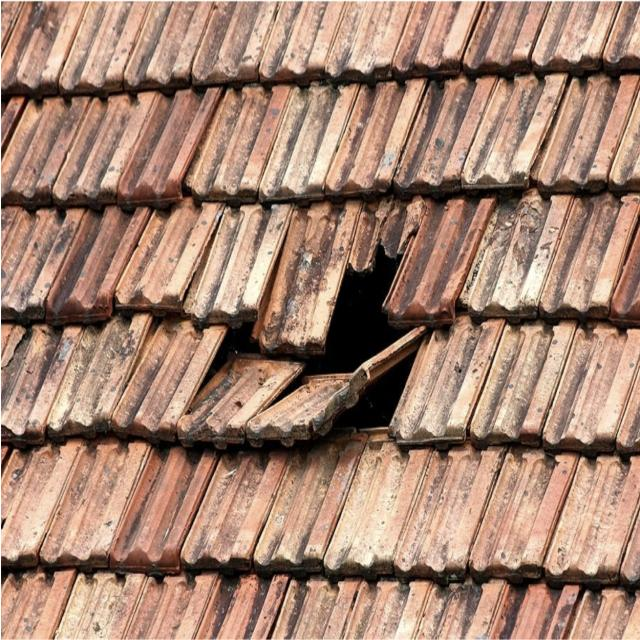damaged_roof: (176, 222, 437, 469)
